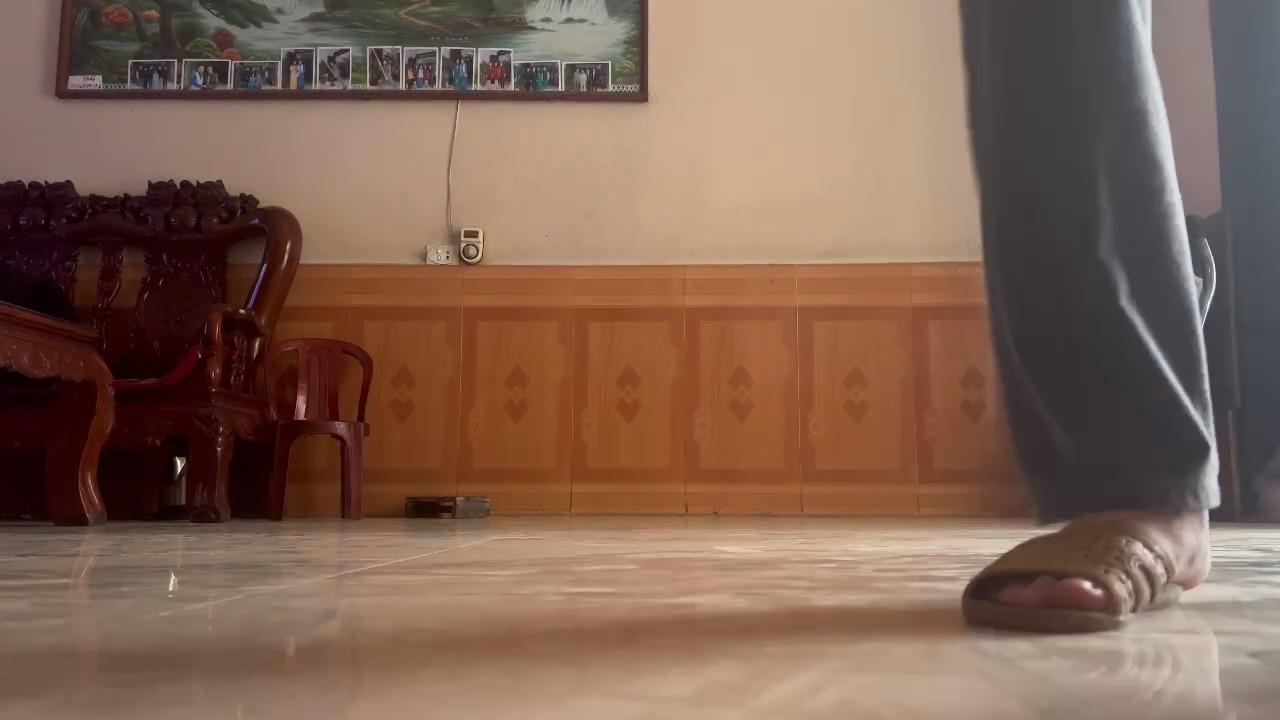no-boot: (952, 519, 1230, 637)
